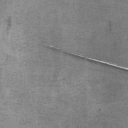finishing roll printing: (64, 51, 128, 72), (44, 45, 60, 51)
